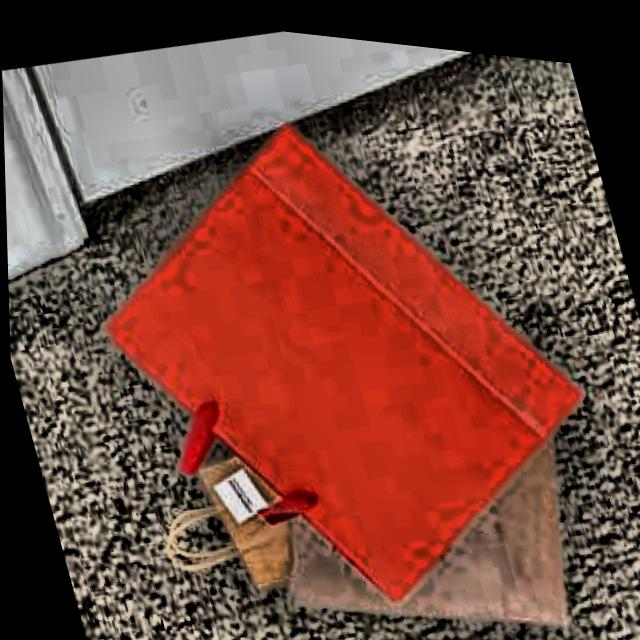Paper-bag: (79, 41, 640, 640)
